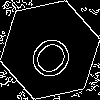O: (25, 25, 83, 85)
